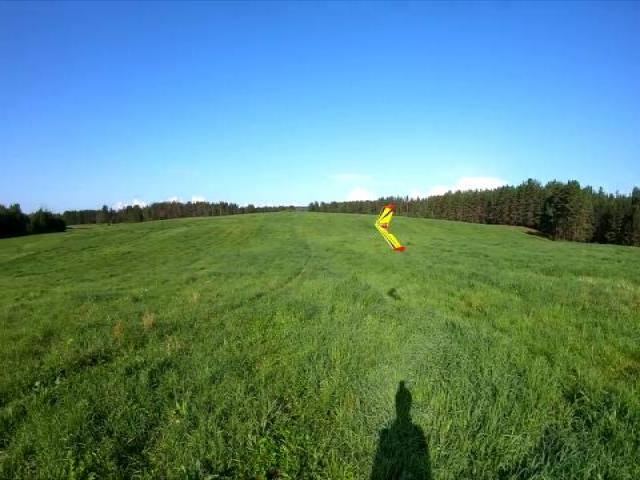flying wing: (373, 202, 407, 258)
